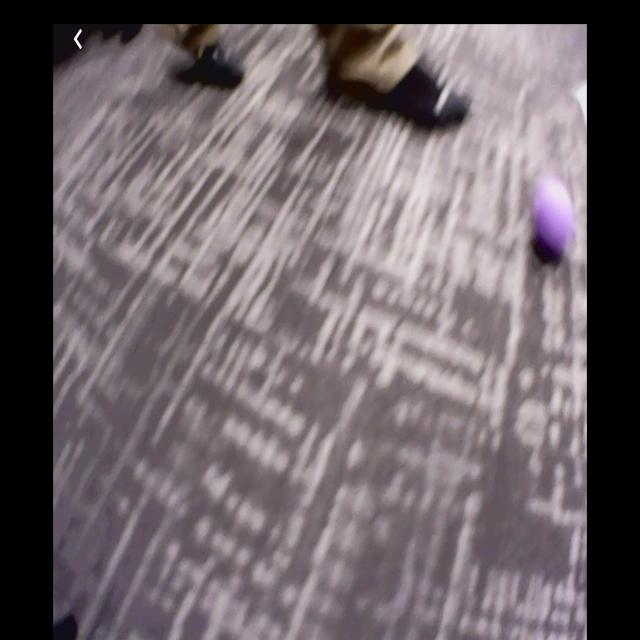ball: (536, 183, 573, 249)
